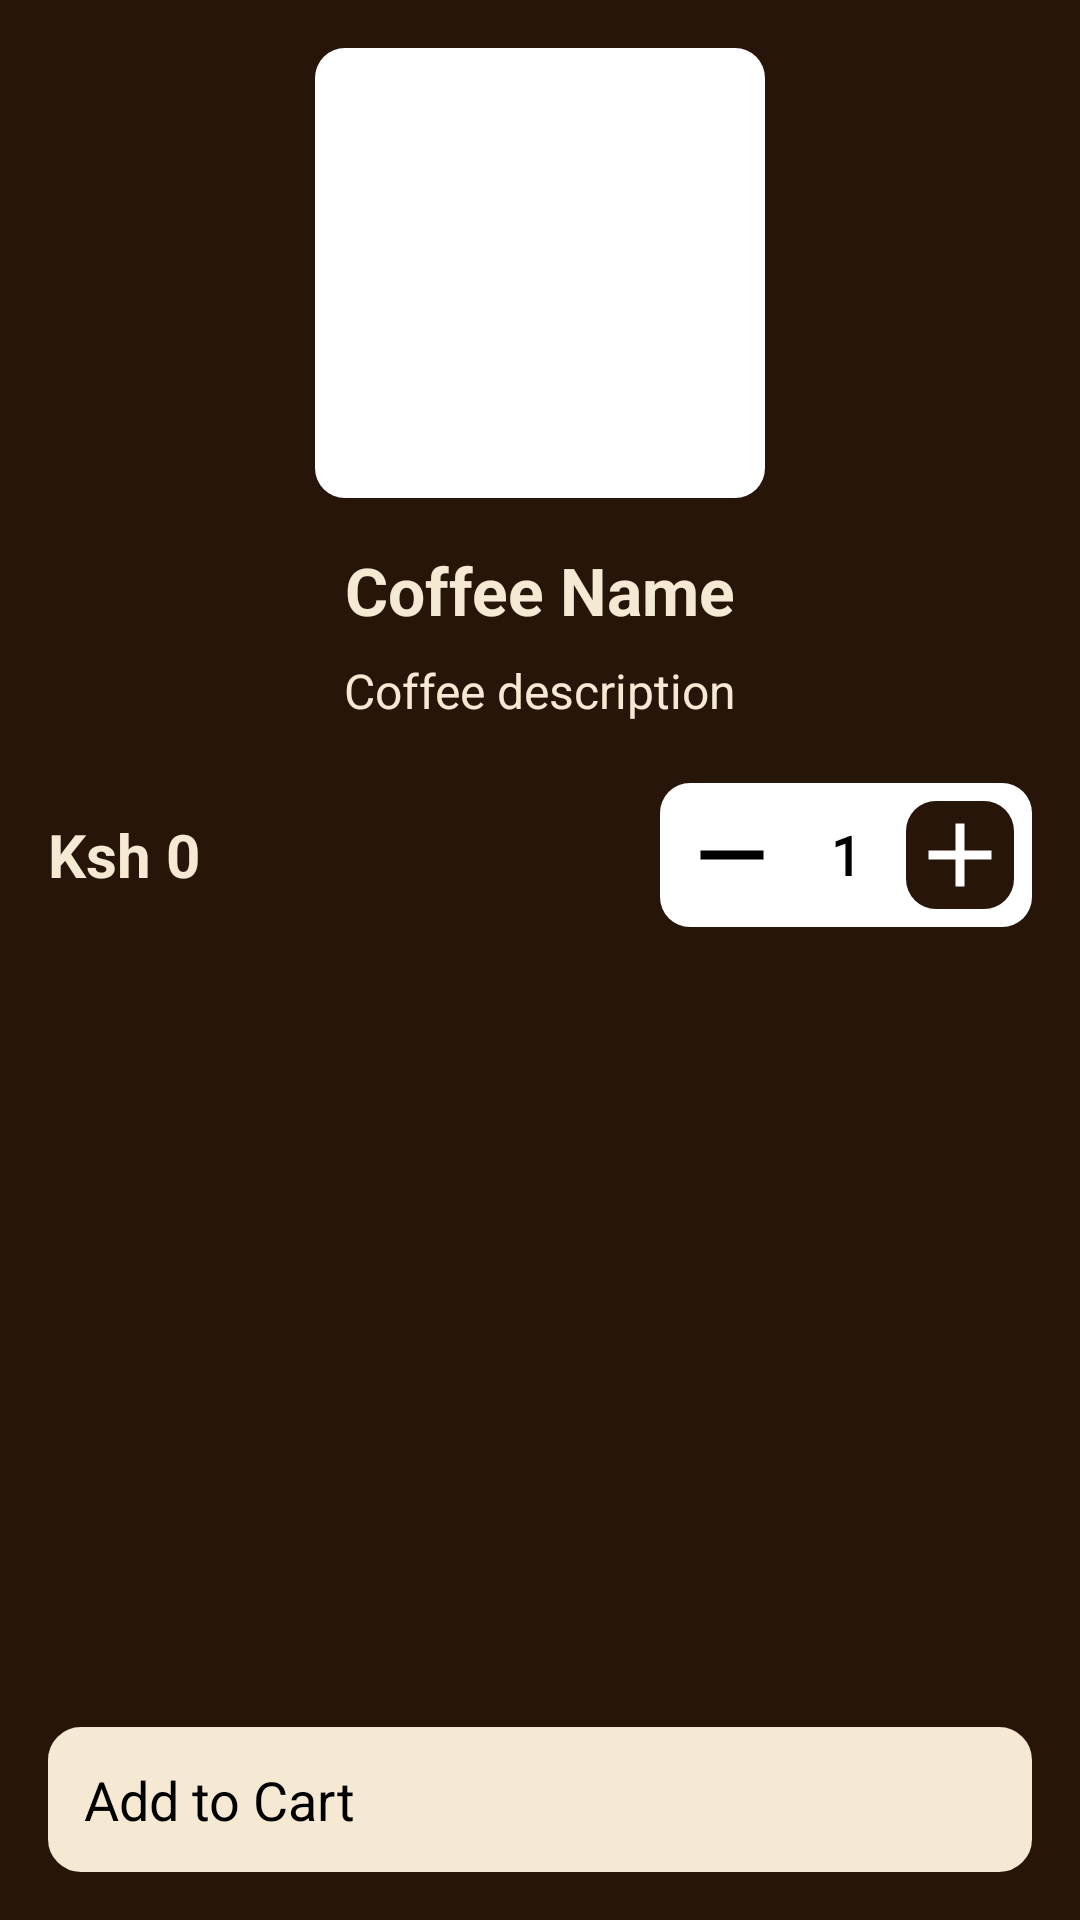

Icons on this 1080px×1920px Android screen, each with its box as (x1, y1, x2, y2):
plus: (906, 801, 1014, 909)
